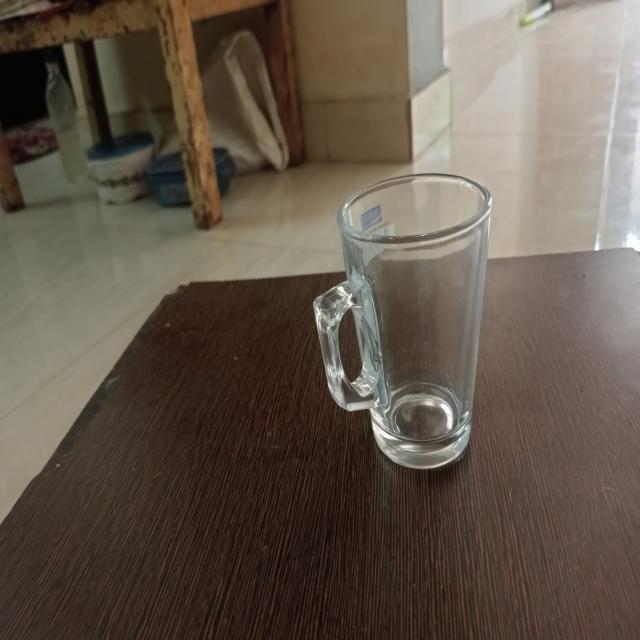glass-VX4N: (314, 174, 491, 472)
